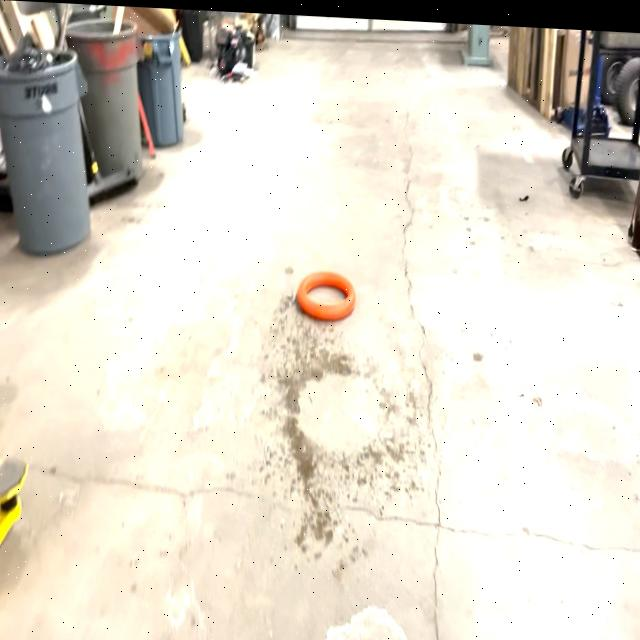note: (294, 259, 356, 321)
